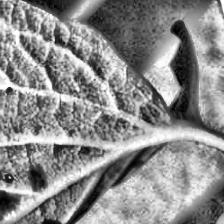Angular Leafspot: (0, 48, 153, 224)
